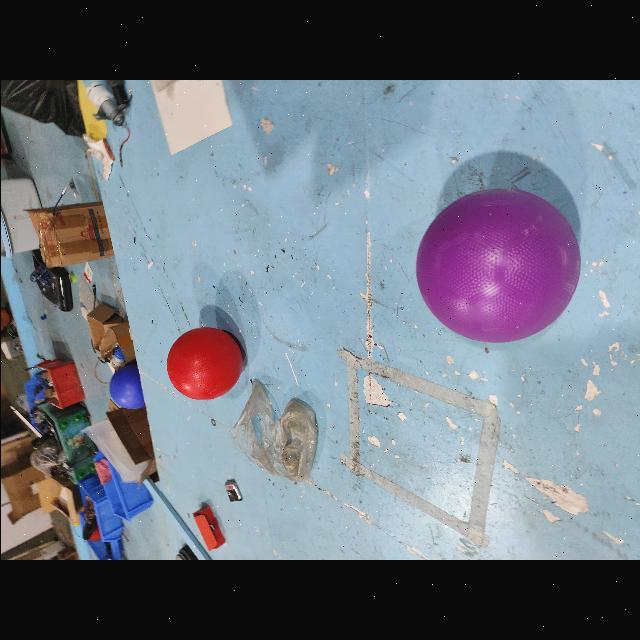B: (106, 359, 156, 409)
P: (414, 188, 578, 344)
R: (164, 326, 242, 400)
